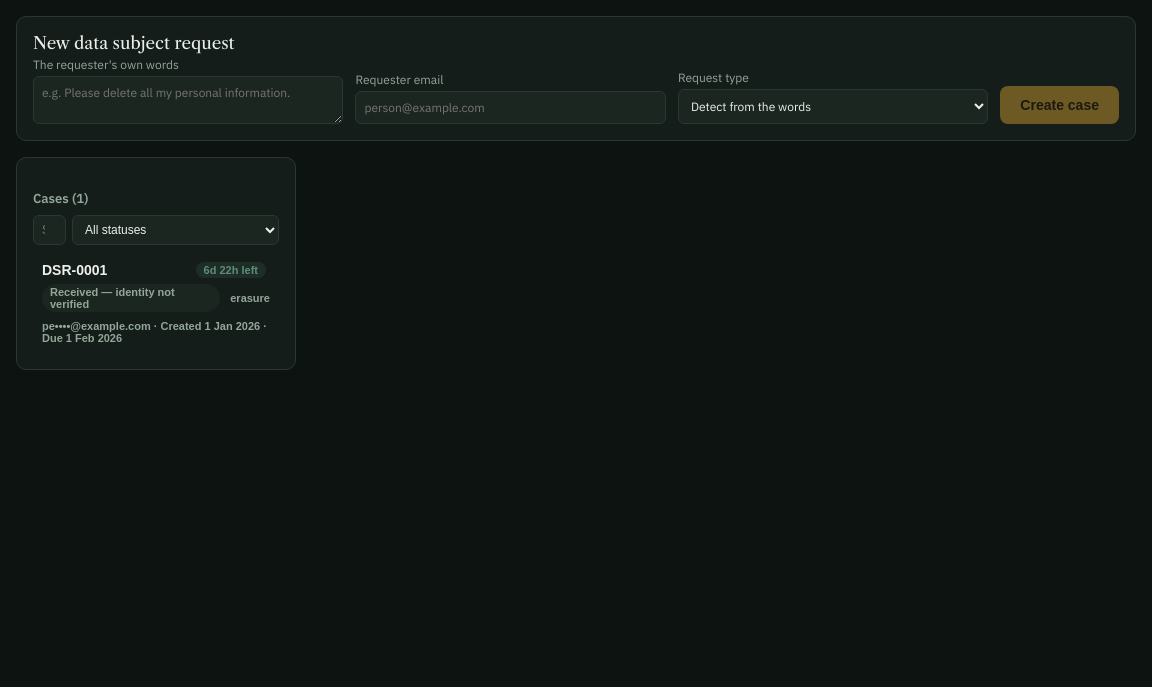
Scenario: DsrDashboard: case detail › entering a code is off until one exists, then reports a wrong code with the attempts left
Check: the text "DSR-0001" is shown, box x1=42 y1=262 x2=107 y2=278
Click the button "DSR-0001". click: (156, 303)
box: x1=33 y1=253 x2=279 y2=353
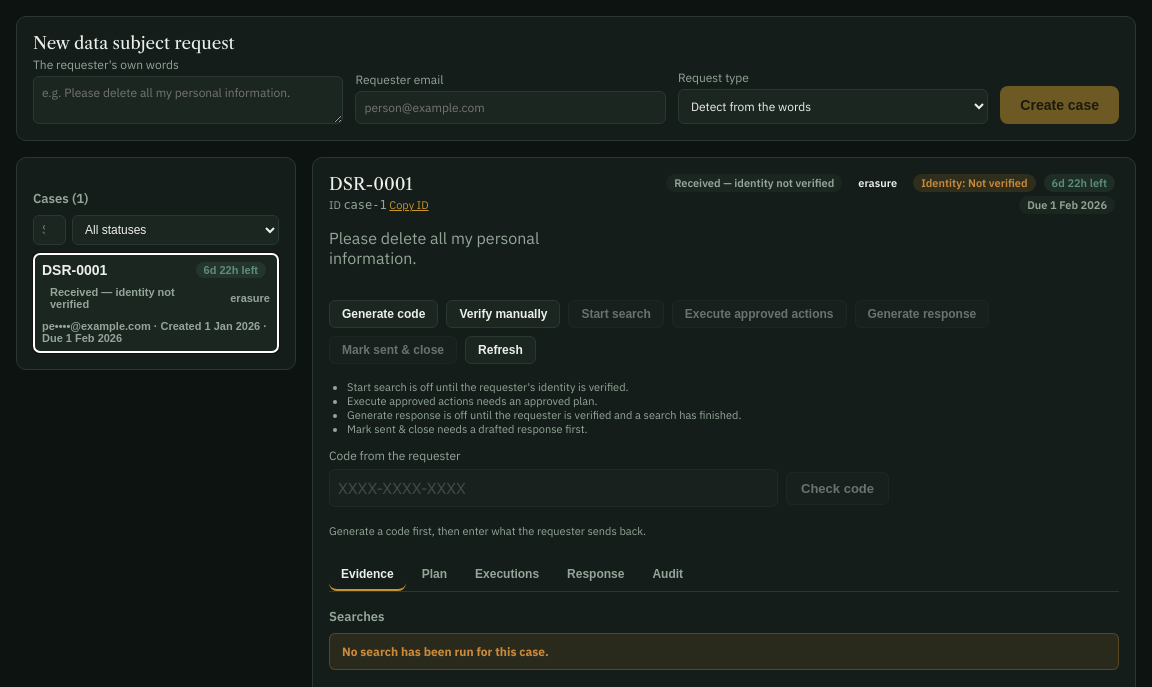
Check: the heading "DSR-0001" is shown, box x1=329 y1=174 x2=413 y2=194
Check: the button "Check code" is disabled, box x1=786 y1=472 x2=889 y2=504
Check: the text "Generate a code first" is shown, box x1=329 y1=524 x2=646 y2=538
Click the button "Generate code". click: (384, 314)
box: x1=329 y1=300 x2=438 y2=328
(page scrolled)
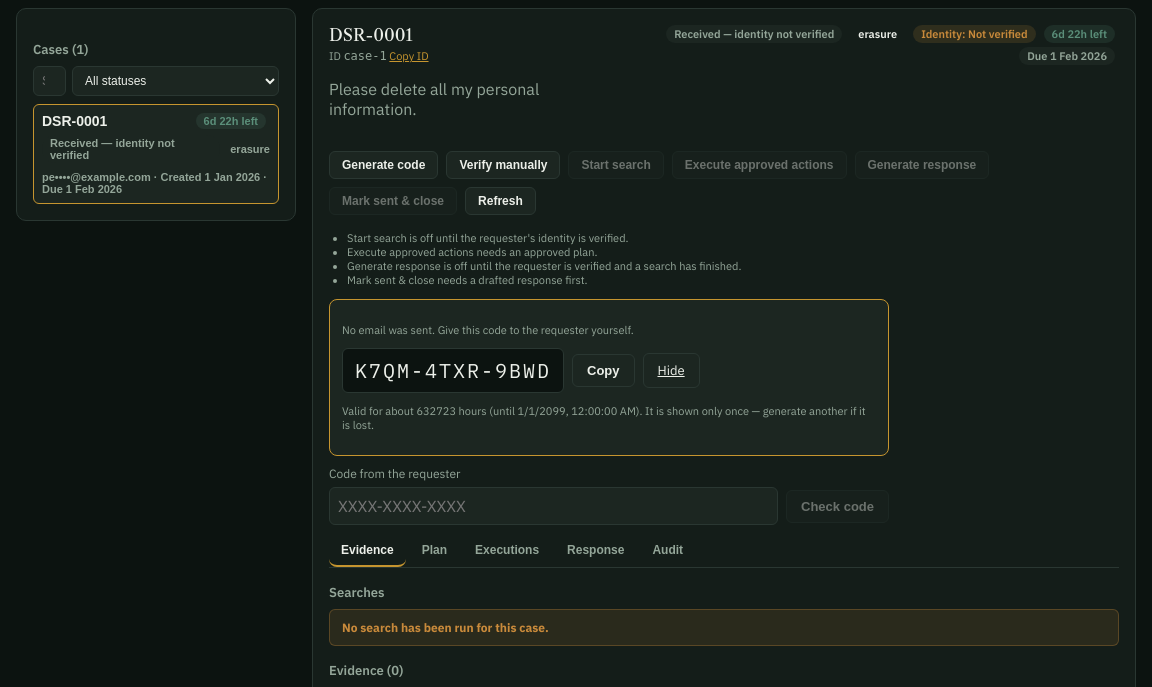
Check: the field labelled "Code from the requester" is enabled
Type "AAAA-BBBB-CCCC" into the field labelled "Code from the requester". click: (554, 506)
box: x1=329 y1=487 x2=778 y2=525
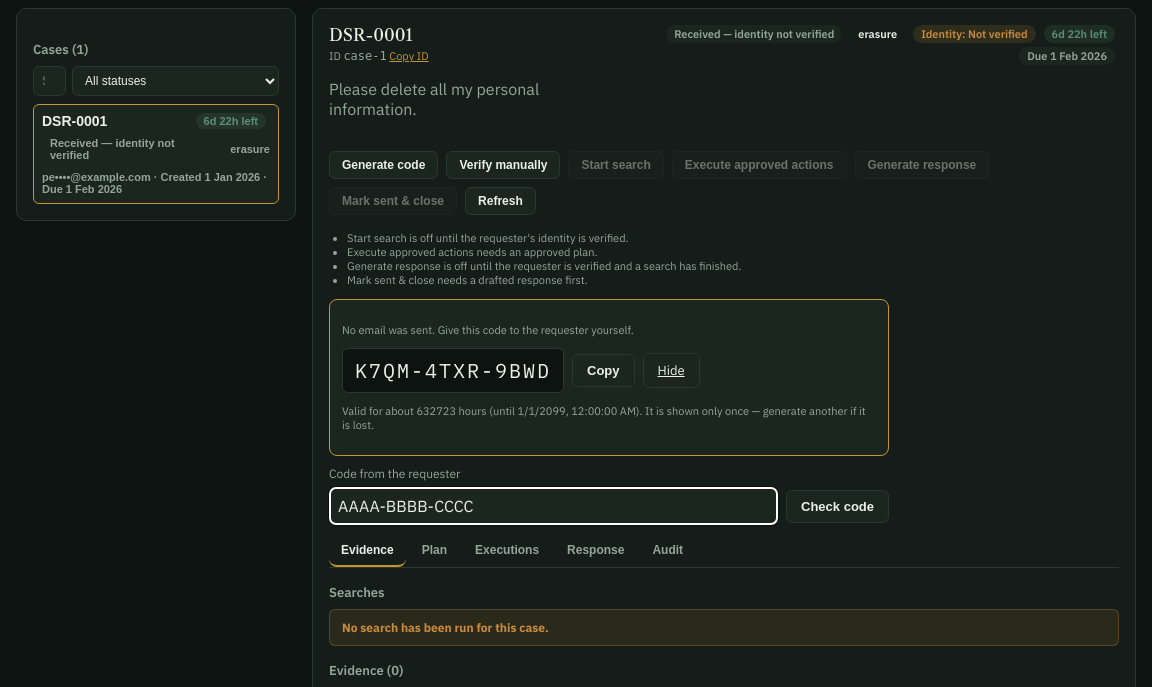
Click the button "Check code". click: (838, 506)
box: x1=786 y1=490 x2=889 y2=522
(page scrolled)
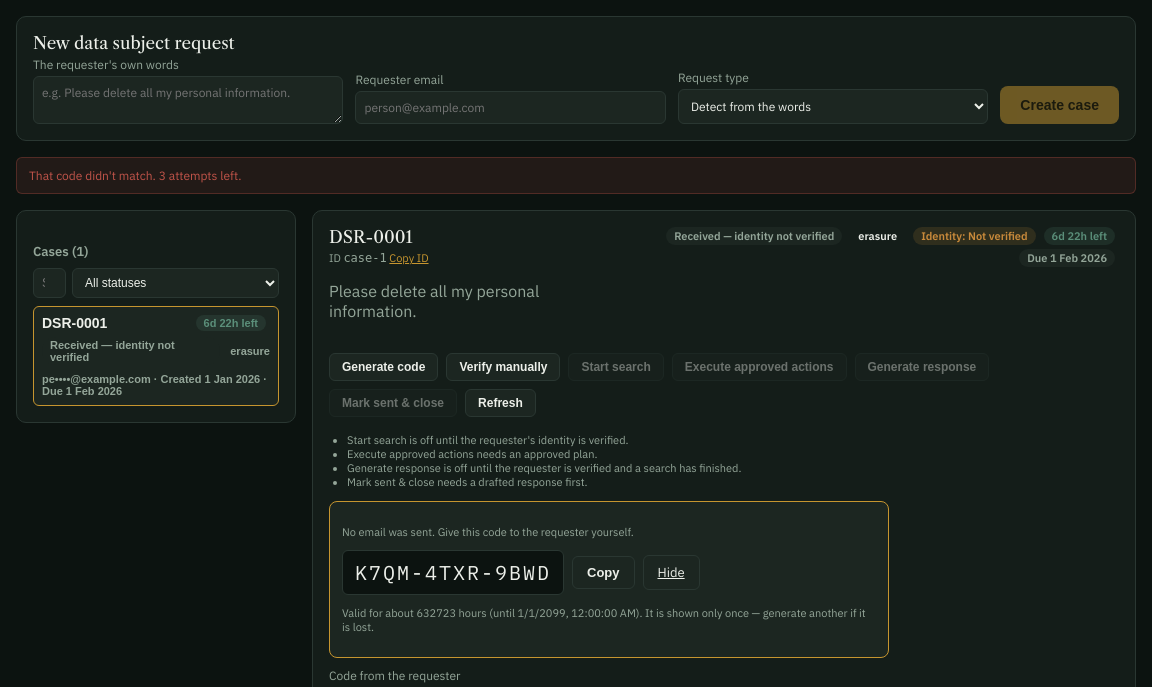
Check: the text "That code didn't match. 3 attempts left." is shown, box x1=16 y1=157 x2=1136 y2=194
